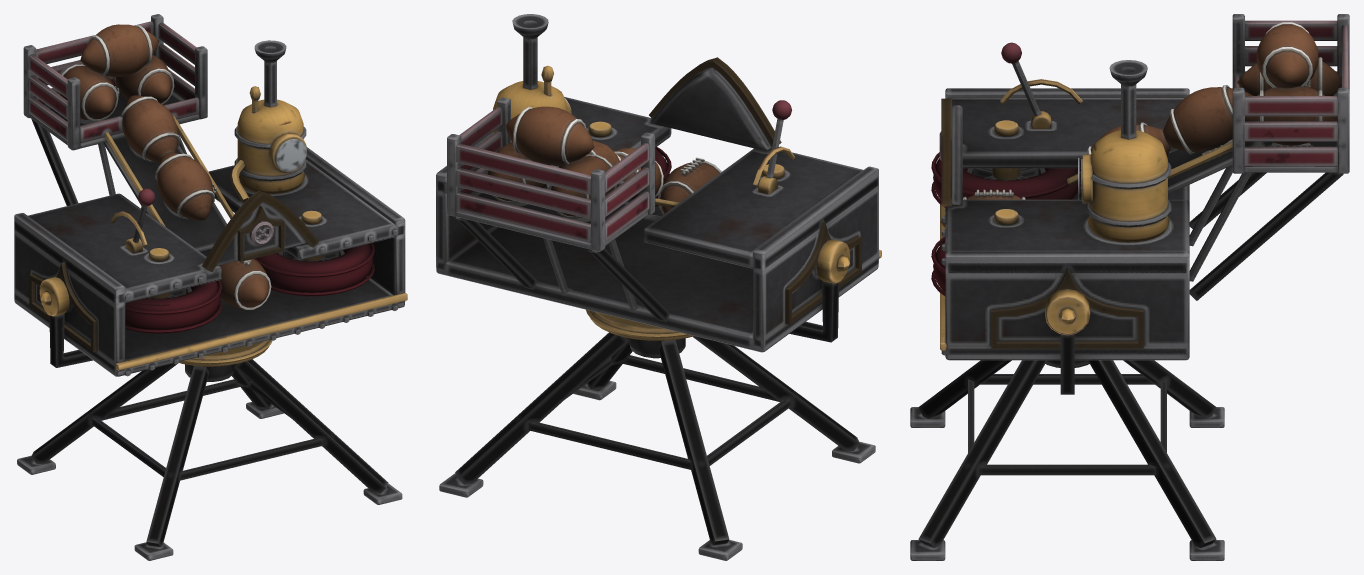
File: FootballMachine.fbx
3 views of the same model, side by side, from view 1: azimuth 30°, elevation 25°; view 2: azimuth 150°, elevation 25°; view 3: azimuth 270°, elevation 25° (orthographic). The views are drawn at different scales.
Visible parts, largest first — view 1: FootballMachine_Main, FootballMachine_WheelR, FootballMachine_WheelL, FootballMachine_Glass; view 2: FootballMachine_Main; view 3: FootballMachine_Main, FootballMachine_WheelL, FootballMachine_WheelR.
Boxes of the visible parts, box(x1,y1,x2,y2) form: FootballMachine_Main: box(14, 14, 407, 560); FootballMachine_WheelR: box(254, 243, 374, 296); FootballMachine_WheelL: box(125, 280, 222, 333); FootballMachine_Glass: box(276, 139, 306, 172); FootballMachine_Main: box(436, 14, 881, 560); FootballMachine_Main: box(910, 14, 1349, 560); FootballMachine_WheelL: box(931, 152, 1080, 207); FootballMachine_WheelR: box(931, 237, 945, 296).
Bounding box in the file's own units: 266 × 297 × 252.
